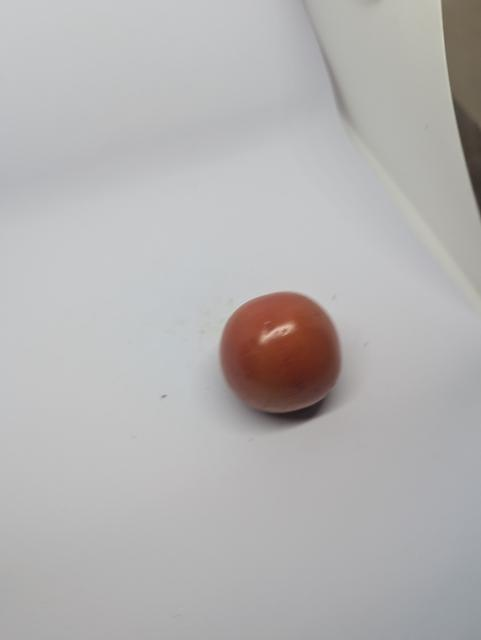red: (210, 279, 361, 442)
